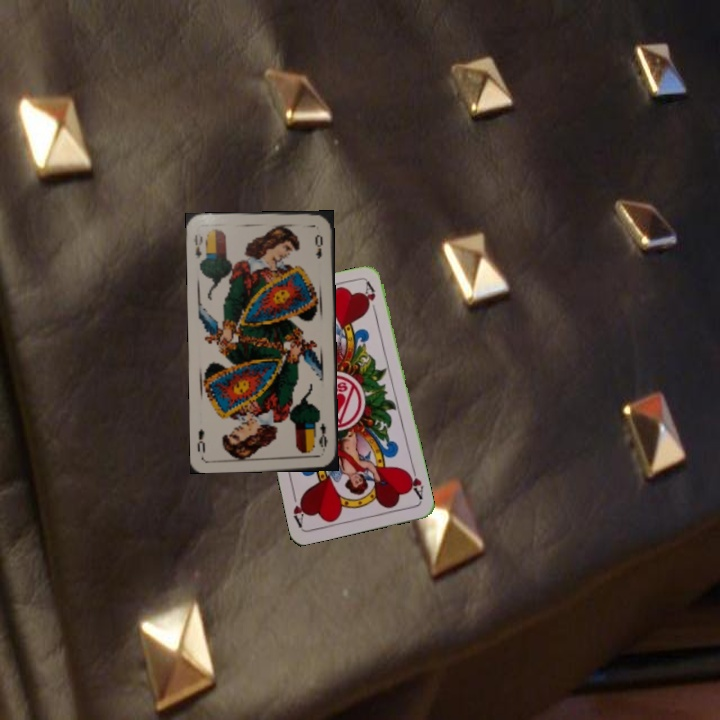EO: (315, 419, 330, 454), (190, 231, 205, 261)
HA: (402, 463, 426, 502)
